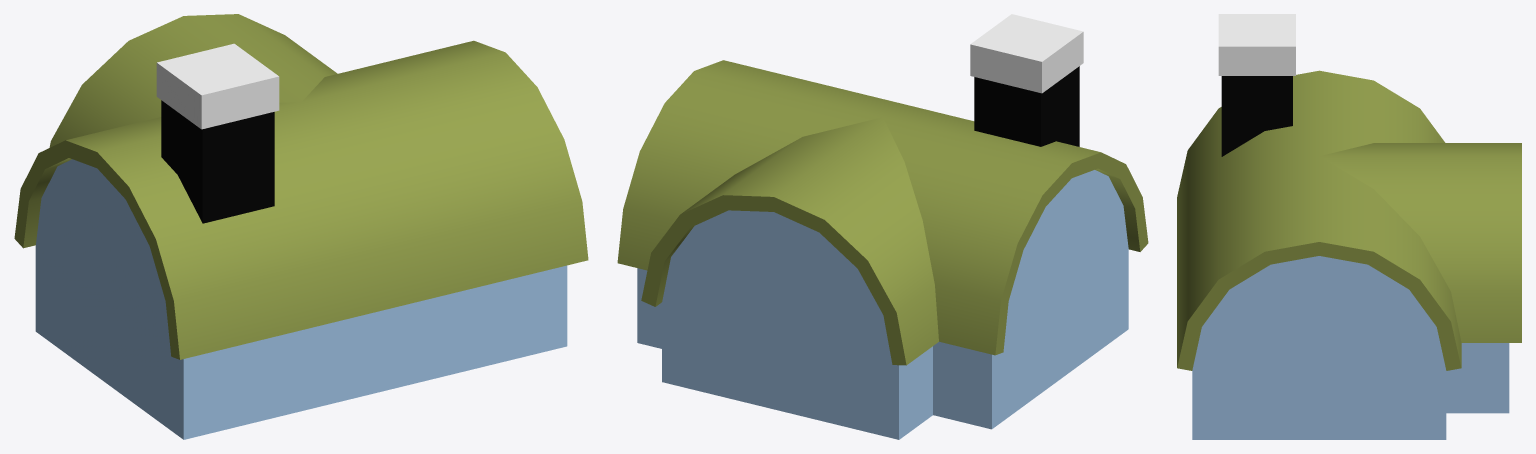
The model's file is Map-House-R-Lv2-G.fbx.
The picture shows the model from 3 angles, left to right: view 1: azimuth 30°, elevation 25°; view 2: azimuth 150°, elevation 25°; view 3: azimuth 270°, elevation 25°; orthographic projection. The views are drawn at different scales.
Visible parts, largest first — view 1: Map-House-R-Lv2-G; view 2: Map-House-R-Lv2-G; view 3: Map-House-R-Lv2-G.
Boxes of the visible parts, left/top/right/bottom form: Map-House-R-Lv2-G: left=14, top=14, right=588, bottom=439; Map-House-R-Lv2-G: left=617, top=14, right=1148, bottom=439; Map-House-R-Lv2-G: left=1177, top=14, right=1521, bottom=439.
Bounding box in the file's own units: 1.91 × 1.45 × 1.63.
